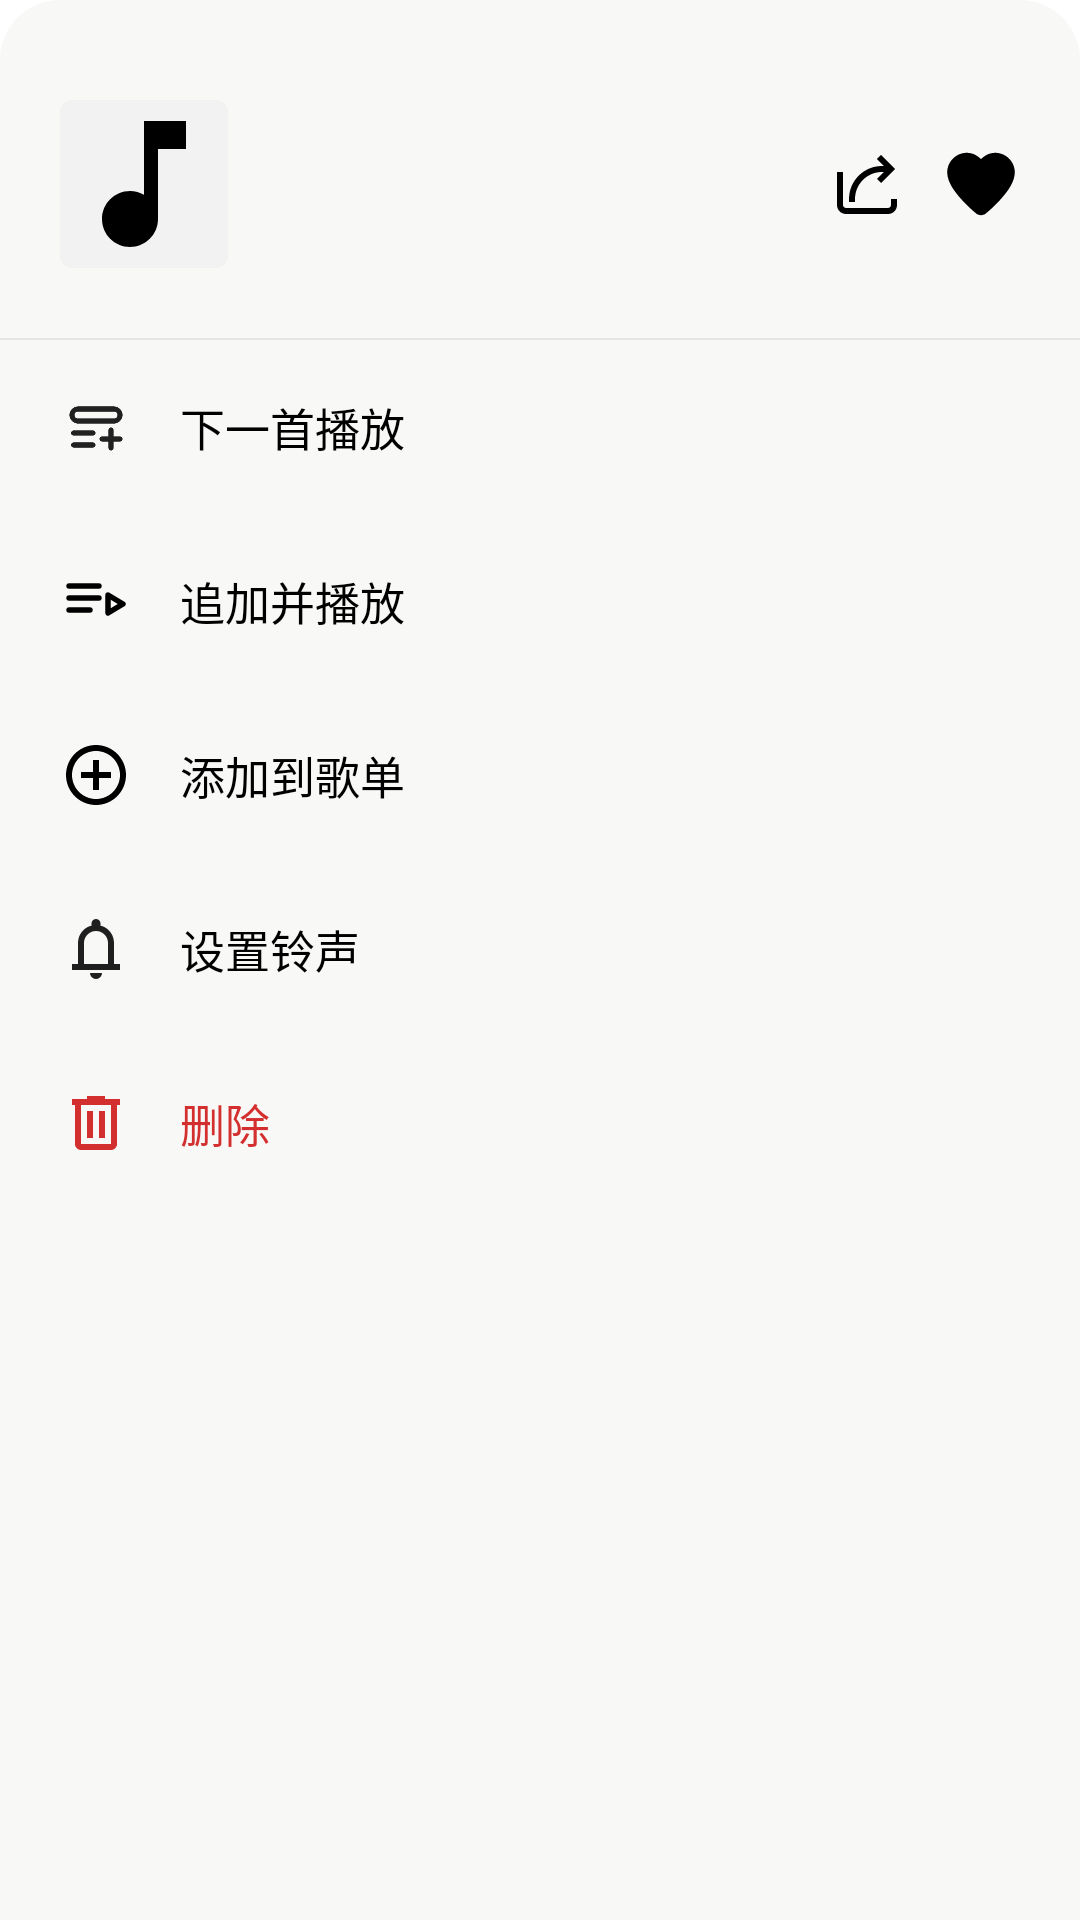

Point at icon controls on the screen. Image size 1080w x 1920h, points as (x,y).
专辑封面: (144,184)
分享: (867,184)
收藏: (981,184)
